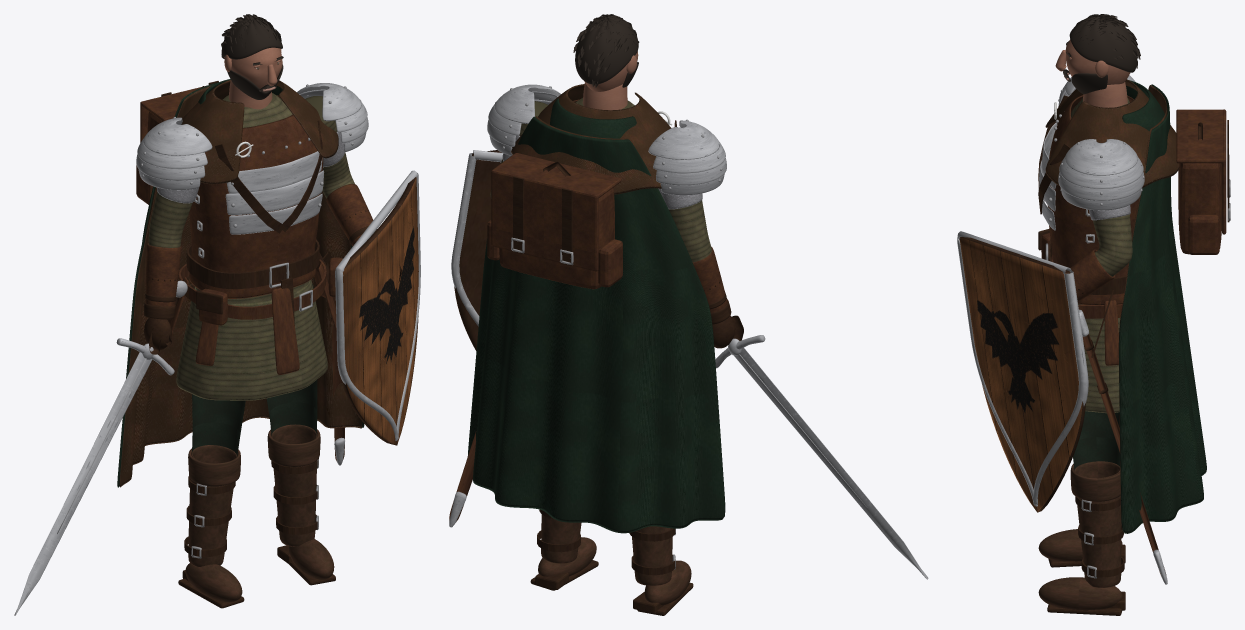
File: knight.glb
3 views of the same model, side by side, from view 1: azimuth 30°, elevation 25°; view 2: azimuth 150°, elevation 25°; view 3: azimuth 270°, elevation 25° (orthographic). The views are drawn at different scales.
Visible parts, largest first — view 1: Shield, Cloak_Lining, Cuirass, Gambeson_Skirt, Mantle, Sword_Blade, Shield_Rim, Boot_Shaft_L, Boot_Shaft_R, Trouser_R, Belt_Main, Tasset_0 (+31 smaller); view 2: Cloak_Outer, Backpack_Flap, Mantle, Shield, Sword_Blade, Hair, Backpack_Body, Backpack_Top, Pauldron_R_0, Shield_Rim, Boot_Shaft_R, Hood (+13 smaller); view 3: Cloak_Outer, Shield, Mantle, Cuirass, Shield_Rim, Boot_Shaft_L, Backpack_Body, Backpack_Top, Hair, Pauldron_L_0, Boot_Foot_L, Trouser_L (+22 smaller).
Part boxes in pixels (box(x1,y1,x2,y2)): Shield: box(342, 177, 418, 445); Cloak_Lining: box(119, 85, 362, 487); Cuirass: box(189, 95, 323, 298); Gambeson_Skirt: box(176, 280, 327, 400); Mantle: box(181, 80, 338, 184); Sword_Blade: box(14, 352, 152, 615); Shield_Rim: box(335, 170, 420, 440); Boot_Shaft_L: box(271, 424, 317, 546); Boot_Shaft_R: box(188, 445, 236, 566); Trouser_R: box(192, 394, 245, 456); Belt_Main: box(186, 239, 319, 289); Tasset_0: box(271, 287, 299, 374); Cloak_Outer: box(467, 116, 725, 533); Backpack_Flap: box(491, 169, 598, 271); Mantle: box(511, 84, 671, 194); Shield: box(454, 150, 501, 350); Sword_Blade: box(734, 347, 928, 579); Hair: box(575, 15, 638, 84); Backpack_Body: box(499, 188, 614, 289); Backpack_Top: box(493, 153, 621, 198); Pauldron_R_0: box(648, 120, 719, 159); Shield_Rim: box(451, 150, 503, 326); Boot_Shaft_R: box(632, 526, 672, 585); Hood: box(550, 98, 636, 138); Cloak_Outer: box(1119, 84, 1206, 533); Shield: box(959, 237, 1085, 512); Mantle: box(1045, 79, 1179, 188); Cuirass: box(1047, 95, 1138, 304); Shield_Rim: box(957, 231, 1088, 506); Boot_Shaft_L: box(1074, 461, 1121, 587); Backpack_Body: box(1178, 163, 1221, 254); Backpack_Top: box(1176, 109, 1223, 163); Hair: box(1069, 16, 1137, 72); Pauldron_L_0: box(1065, 139, 1137, 175); Boot_Foot_L: box(1038, 577, 1122, 610); Trouser_L: box(1073, 411, 1120, 470).
Size of the model in its own units: 1.47 by 1.81 by 0.7871.
Materials: 19 (13 with a texture image).
